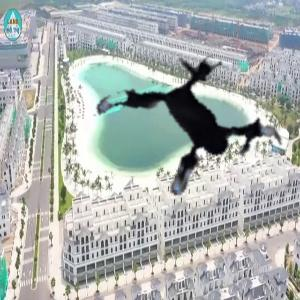drone: (82, 30, 294, 242)
